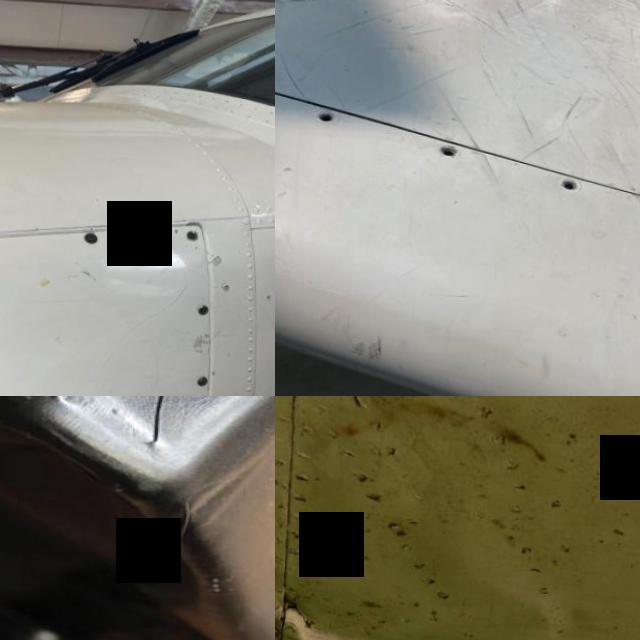Crack: (276, 593, 324, 639)
Dent: (275, 506, 593, 640)
Missing_Fastener: (432, 141, 462, 157), (554, 174, 583, 190), (314, 110, 335, 124)
